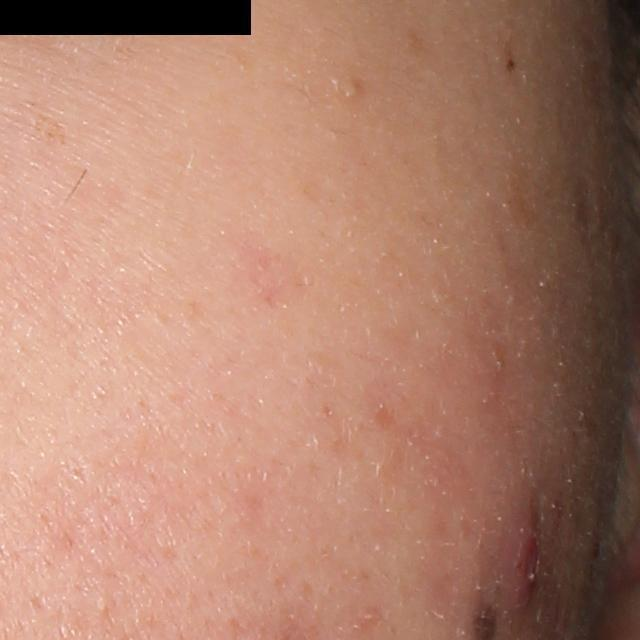comedo: (335, 75, 364, 104)
nevus: (504, 58, 516, 75)
papule: (501, 490, 544, 610)
